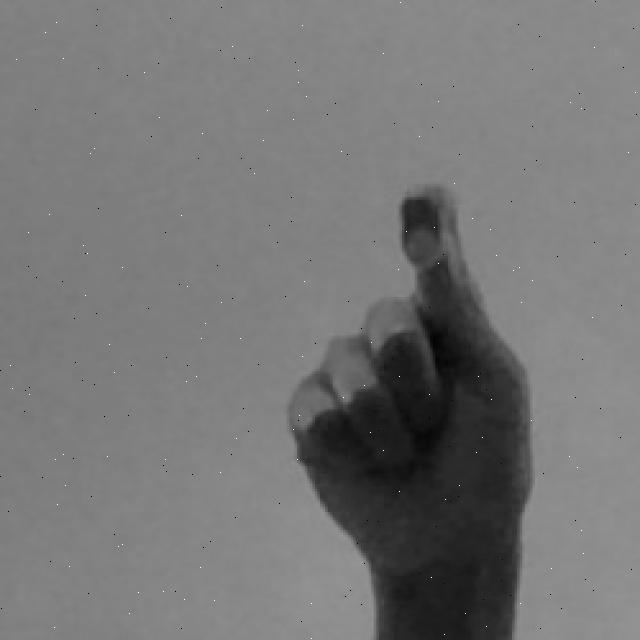T: (274, 174, 540, 640)
